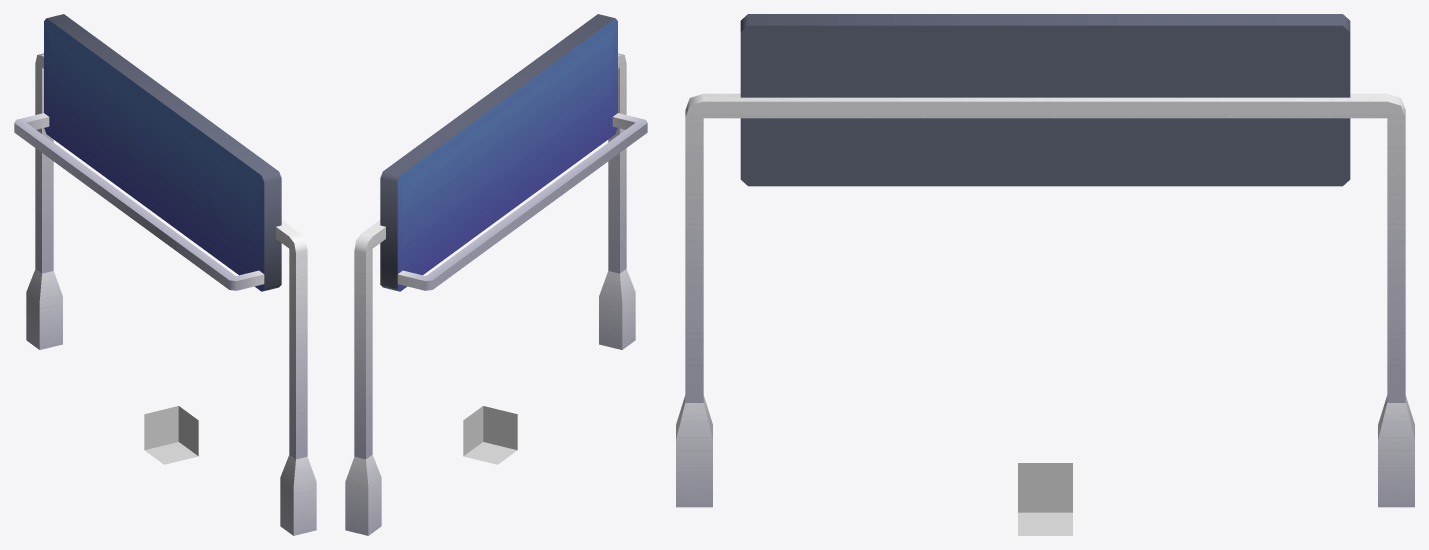
File: func-checkpoint.glb
3 views of the same model, side by side, from view 1: azimuth 30°, elevation 25°; view 2: azimuth 150°, elevation 25°; view 3: azimuth 270°, elevation 25° (orthographic). The views are drawn at different scales.
Visible parts, largest first — view 1: checkpoint, spawnpoint; view 2: checkpoint, spawnpoint; view 3: checkpoint, spawnpoint.
Boxes of the visible parts, bbox=[...] form: checkpoint: bbox=[14, 14, 316, 535]; spawnpoint: bbox=[144, 406, 198, 464]; checkpoint: bbox=[345, 14, 647, 535]; spawnpoint: bbox=[463, 406, 517, 464]; checkpoint: bbox=[676, 14, 1414, 507]; spawnpoint: bbox=[1018, 463, 1072, 535].
Size of what is drawn, in the model's own units: 0.1446 by 0.7446 by 1.
Materials: 1 (1 with a texture image).
